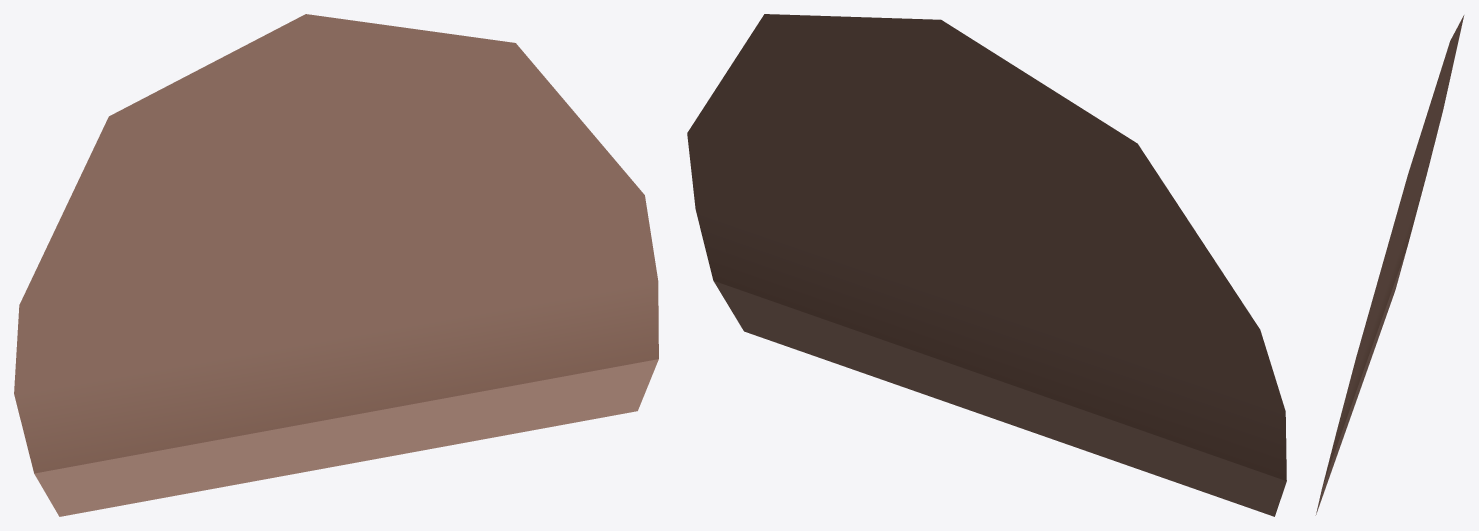
Rendered from scareCrowTopEyeLidBrownRight.glb.
3 renders of one model, left to right at view 1: azimuth 30°, elevation 25°; view 2: azimuth 150°, elevation 25°; view 3: azimuth 270°, elevation 25°, orthographic. The views are drawn at different scales.
Parts seen in each view (by area): view 1: scareCrowTopEyeLidBrownRight; view 2: scareCrowTopEyeLidBrownRight; view 3: scareCrowTopEyeLidBrownRight.
Part boxes in pixels (x1,y1,x2,y2): scareCrowTopEyeLidBrownRight: (14, 14, 658, 516); scareCrowTopEyeLidBrownRight: (687, 14, 1286, 516); scareCrowTopEyeLidBrownRight: (1315, 15, 1464, 515).
Bounding box in the file's own units: 0.1055 × 0.0701 × 0.0255.
